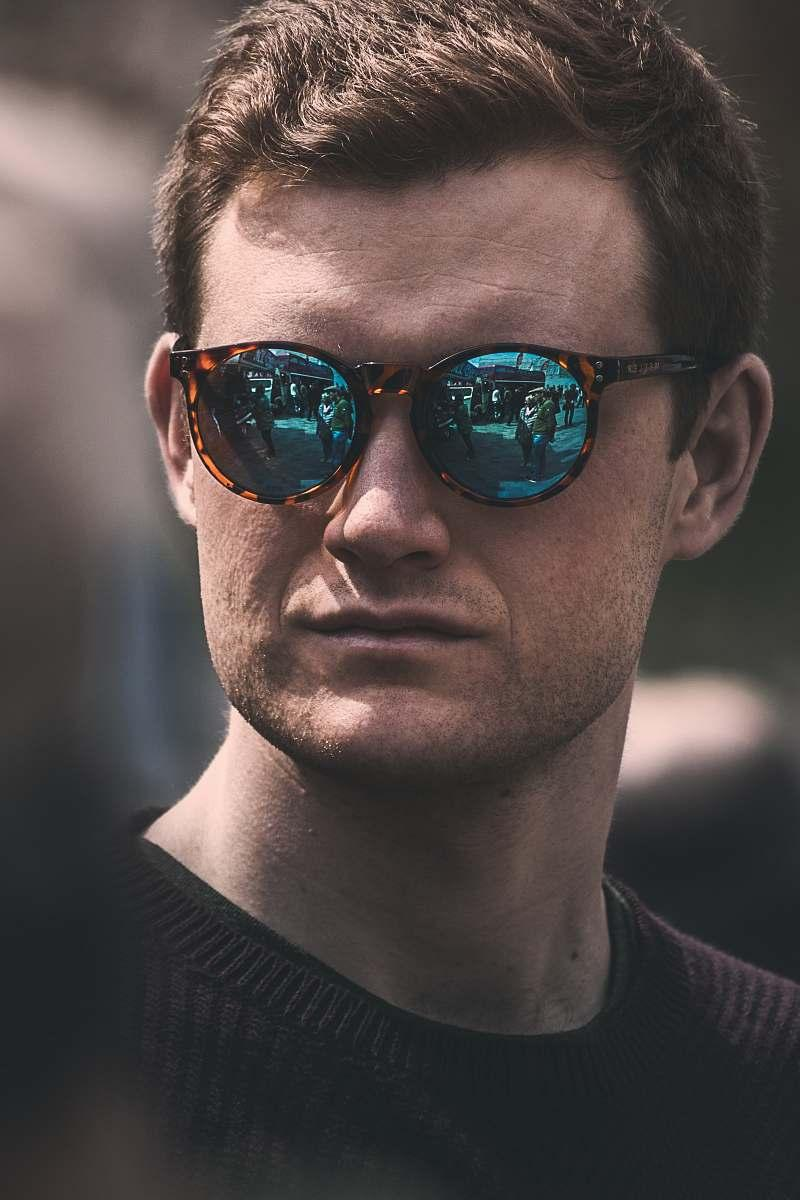sunglasses: (153, 307, 700, 520)
